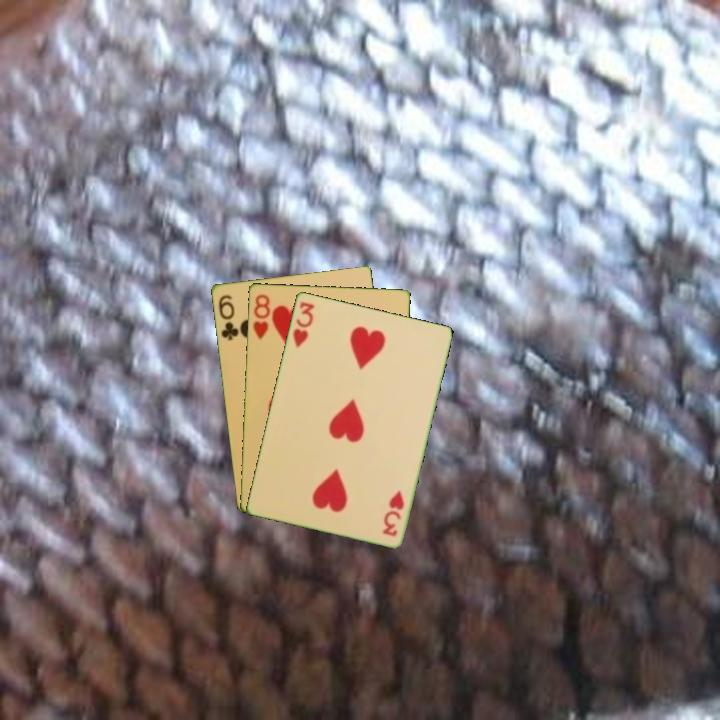3h: (379, 486, 407, 539), (289, 298, 317, 350)
6c: (214, 291, 241, 343)
8h: (249, 291, 273, 342)
